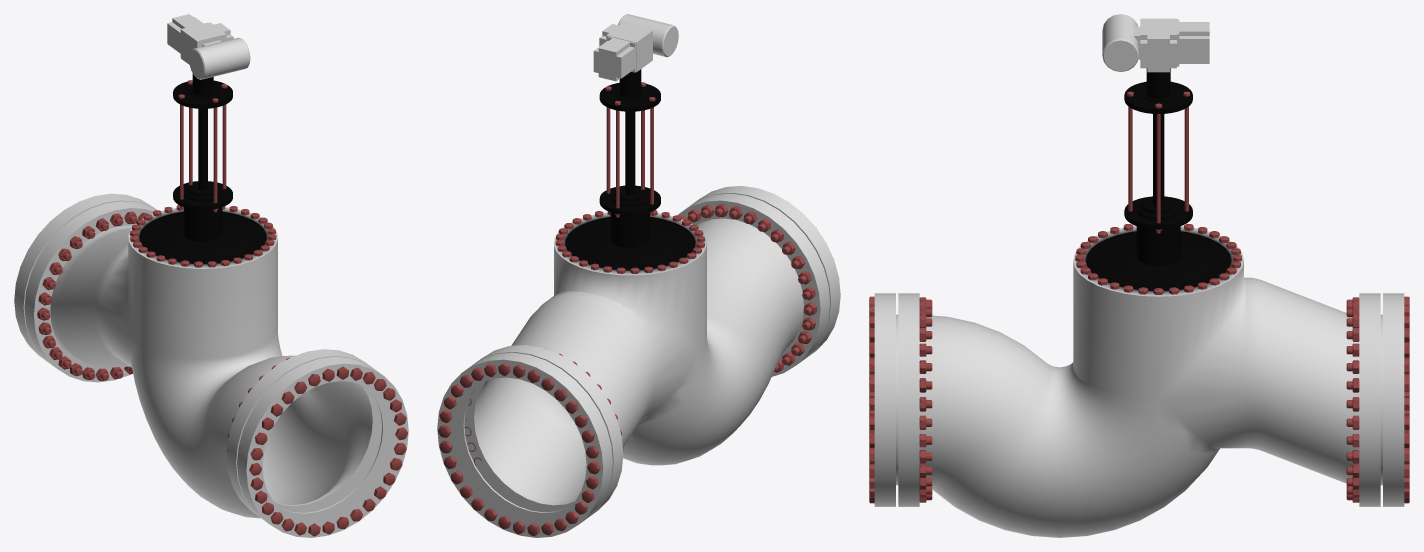
Rendered from Pressure_relief_valve.fbx.
3 views of the same model, side by side, from view 1: azimuth 30°, elevation 25°; view 2: azimuth 150°, elevation 25°; view 3: azimuth 270°, elevation 25° (orthographic). The views are drawn at different scales.
Parts seen in each view (by area): view 1: Рressure_reelief_valve, Object314; view 2: Рressure_reelief_valve; view 3: Рressure_reelief_valve.
Part boxes in pixels (box(x1,y1,x2,y2)): Рressure_reelief_valve: box(14, 14, 408, 537); Object314: box(212, 98, 218, 212); Рressure_reelief_valve: box(437, 14, 840, 537); Рressure_reelief_valve: box(874, 14, 1404, 537).
Bounding box in the file's own units: 50.05 × 130 × 126.
